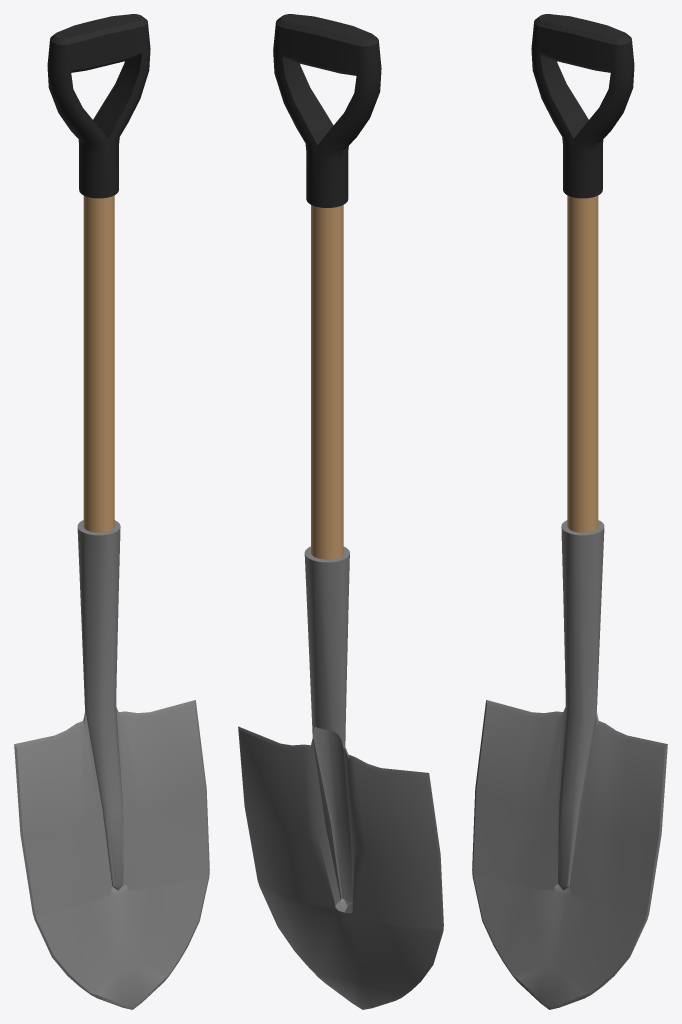
File: spade.fbx
3 views of the same model, side by side, from view 1: azimuth 30°, elevation 25°; view 2: azimuth 150°, elevation 25°; view 3: azimuth 330°, elevation 25° (orthographic). The views are drawn at different scales.
Parts seen in each view (by area): view 1: Cylinder.006; view 2: Cylinder.006; view 3: Cylinder.006.
Boxes of the visible parts, left/top/right/bottom form: Cylinder.006: left=14, top=14, right=209, bottom=1009; Cylinder.006: left=238, top=14, right=443, bottom=1009; Cylinder.006: left=472, top=14, right=667, bottom=1009.
Bounding box in the file's own units: 122 × 599 × 50.54.
